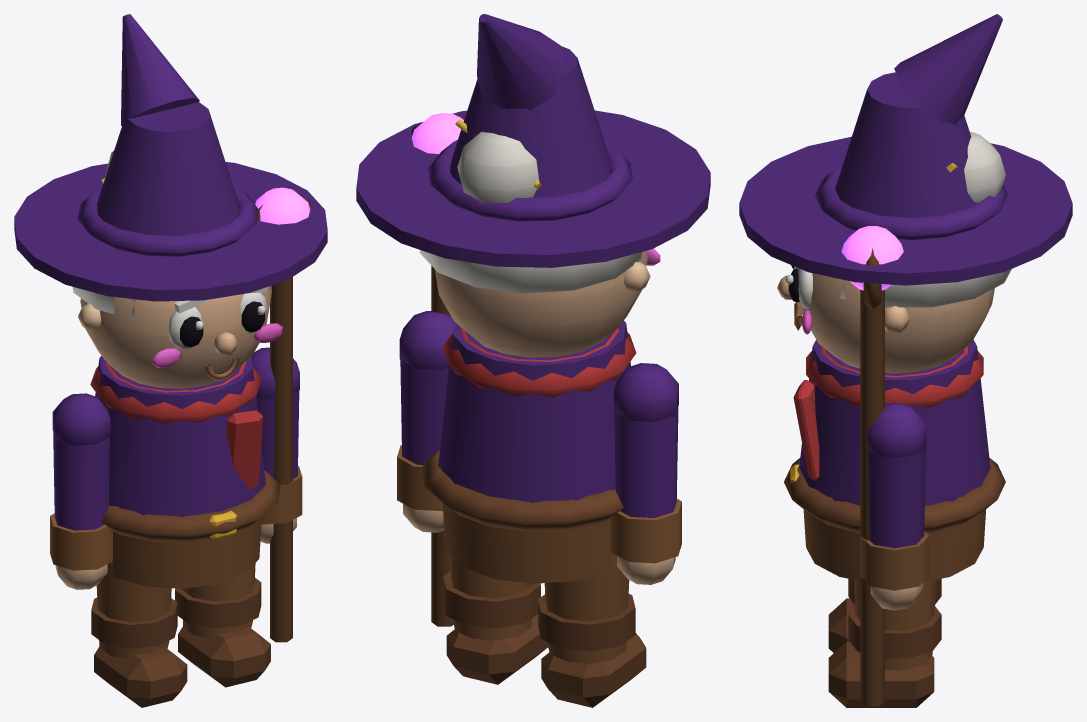
File: hero_mabel.glb
The picture shows the model from 3 angles, left to right: view 1: azimuth 30°, elevation 25°; view 2: azimuth 150°, elevation 25°; view 3: azimuth 270°, elevation 25°; orthographic projection. The views are drawn at different scales.
Visible parts, largest first — view 1: body_t0_palette, armr_t0_palette, arml_t0_palette, legl_t0_palette, legr_t0_palette, armr_t0_brew_violet; view 2: body_t0_palette, arml_t0_palette, legl_t0_palette, armr_t0_palette, legr_t0_palette, armr_t0_brew_violet; view 3: body_t0_palette, armr_t0_palette, legr_t0_palette, armr_t0_brew_violet, legl_t0_palette.
Boxes of the visible parts, x1=… form: body_t0_palette: x1=14, y1=14, x2=327, y2=588; armr_t0_palette: x1=251, y1=196, x2=310, y2=642; arml_t0_palette: x1=50, y1=393, x2=112, y2=589; legl_t0_palette: x1=91, y1=562, x2=187, y2=707; legr_t0_palette: x1=175, y1=563, x2=270, y2=687; armr_t0_brew_violet: x1=255, y1=187, x2=310, y2=224; body_t0_palette: x1=356, y1=14, x2=710, y2=583; arml_t0_palette: x1=610, y1=363, x2=681, y2=584; legl_t0_palette: x1=538, y1=553, x2=646, y2=707; armr_t0_palette: x1=397, y1=123, x2=454, y2=626; legr_t0_palette: x1=443, y1=555, x2=547, y2=684; armr_t0_brew_violet: x1=411, y1=113, x2=463, y2=154; body_t0_palette: x1=739, y1=14, x2=1072, y2=582; armr_t0_palette: x1=860, y1=248, x2=929, y2=706; legr_t0_palette: x1=828, y1=580, x2=941, y2=707; armr_t0_brew_violet: x1=841, y1=226, x2=903, y2=290; legl_t0_palette: x1=828, y1=578, x2=941, y2=652.
Size of the model in its own units: 0.3 by 0.6592 by 0.3.
